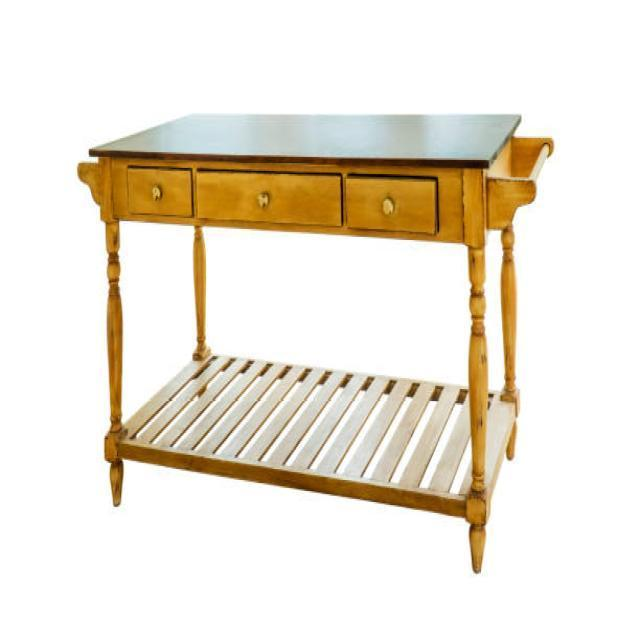table: (76, 110, 554, 572)
